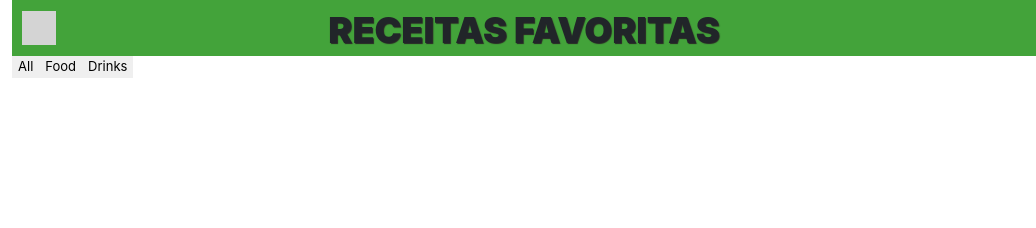
Verifica se os botões filtram as receitas › Clicando no botão Drinks aparece apenas bebidas
Click the button with test id "filter-by-drink-btn": click(108, 67) [82, 56, 133, 78]
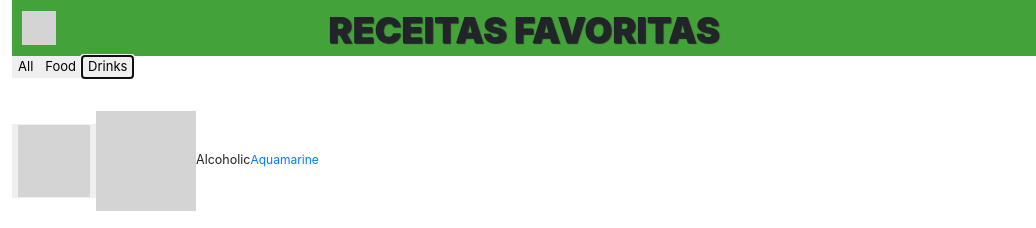
Expected: the text with test id "0-horizontal-name" reads "Aquamarine", [250, 153, 319, 168]
